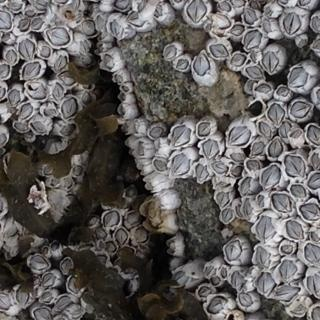Barnacle: (255, 216, 276, 242), (145, 195, 163, 225), (44, 26, 71, 46), (284, 154, 305, 179), (259, 164, 280, 187), (171, 152, 192, 175), (281, 12, 300, 37), (228, 125, 250, 145), (290, 100, 312, 120), (186, 0, 206, 22), (280, 259, 300, 280), (171, 125, 191, 146), (288, 66, 308, 87), (256, 273, 275, 295), (298, 202, 320, 221), (26, 82, 48, 101), (201, 137, 219, 160), (261, 50, 279, 73), (304, 242, 320, 267), (206, 295, 227, 314), (223, 239, 241, 261), (18, 38, 36, 60), (271, 193, 291, 212), (243, 29, 262, 49), (286, 219, 304, 240), (267, 103, 285, 124), (255, 246, 270, 271), (193, 53, 209, 76), (126, 11, 148, 27), (275, 286, 298, 301), (57, 71, 76, 89), (22, 63, 41, 81), (306, 273, 320, 297), (53, 294, 73, 310), (208, 43, 229, 58), (268, 136, 283, 156), (244, 65, 264, 80), (306, 124, 320, 145), (230, 270, 243, 291), (103, 209, 119, 226), (29, 255, 48, 269), (81, 20, 96, 37), (15, 287, 29, 305), (114, 227, 128, 245), (230, 52, 248, 66), (0, 10, 12, 31), (238, 177, 251, 196), (42, 272, 58, 287), (196, 162, 208, 182), (290, 184, 307, 198), (251, 140, 265, 157), (33, 307, 51, 320), (215, 191, 228, 209), (214, 15, 230, 29), (8, 88, 21, 105), (68, 275, 80, 293), (259, 120, 271, 138), (253, 82, 271, 94), (52, 82, 64, 100), (238, 293, 253, 307), (135, 226, 148, 242), (279, 122, 292, 138), (243, 8, 256, 24), (308, 172, 320, 189), (212, 161, 229, 173), (242, 198, 252, 218), (110, 19, 121, 37), (154, 157, 168, 171), (16, 18, 30, 32), (31, 121, 46, 134), (78, 38, 90, 54), (0, 292, 11, 309), (174, 271, 188, 284), (126, 212, 139, 226), (148, 124, 162, 137), (197, 122, 210, 136), (54, 54, 67, 68), (229, 23, 243, 36), (38, 291, 53, 303), (230, 152, 246, 163), (0, 64, 11, 80), (113, 0, 130, 10), (153, 3, 166, 16), (60, 258, 72, 272), (230, 165, 244, 177), (245, 159, 259, 171), (5, 50, 17, 64), (164, 45, 176, 59), (103, 53, 114, 68), (310, 152, 320, 168), (198, 286, 211, 298), (93, 228, 106, 240), (31, 17, 44, 29), (292, 303, 306, 314), (61, 124, 75, 135), (275, 85, 289, 96), (280, 243, 293, 254), (222, 208, 233, 221), (33, 0, 47, 10), (137, 140, 145, 157), (312, 16, 320, 33), (7, 221, 16, 236), (70, 308, 82, 319), (95, 252, 106, 264), (14, 121, 26, 132), (176, 59, 188, 70), (106, 240, 116, 253), (214, 181, 230, 189), (204, 264, 215, 275), (219, 1, 230, 12), (137, 0, 148, 11), (310, 229, 320, 241), (263, 19, 272, 32), (96, 15, 105, 28), (290, 129, 301, 139), (10, 0, 21, 10), (146, 176, 155, 188), (235, 203, 242, 218), (257, 194, 265, 207), (49, 241, 59, 251), (87, 214, 96, 225), (63, 178, 72, 189), (138, 159, 145, 173), (250, 50, 258, 62), (169, 238, 176, 251), (229, 0, 244, 6), (126, 186, 134, 197), (119, 103, 126, 115), (210, 276, 219, 285), (51, 177, 60, 186), (73, 165, 82, 174), (265, 6, 273, 16), (132, 119, 138, 132), (44, 166, 53, 174)
